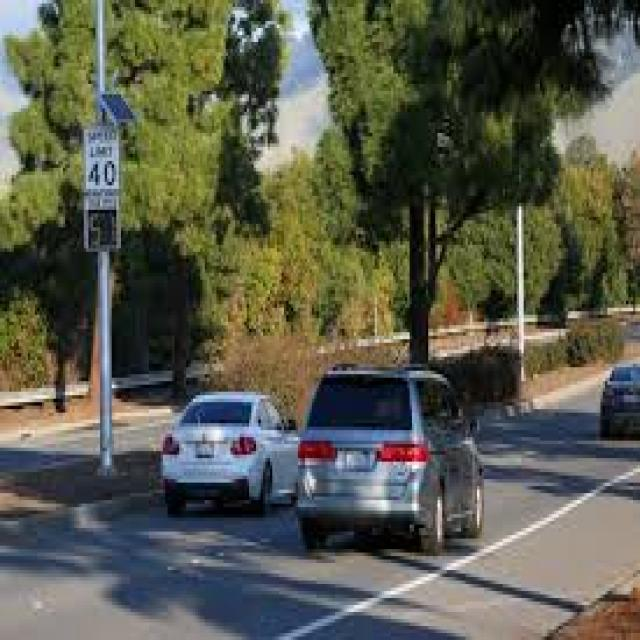speedLimit40: (85, 129, 120, 196)
